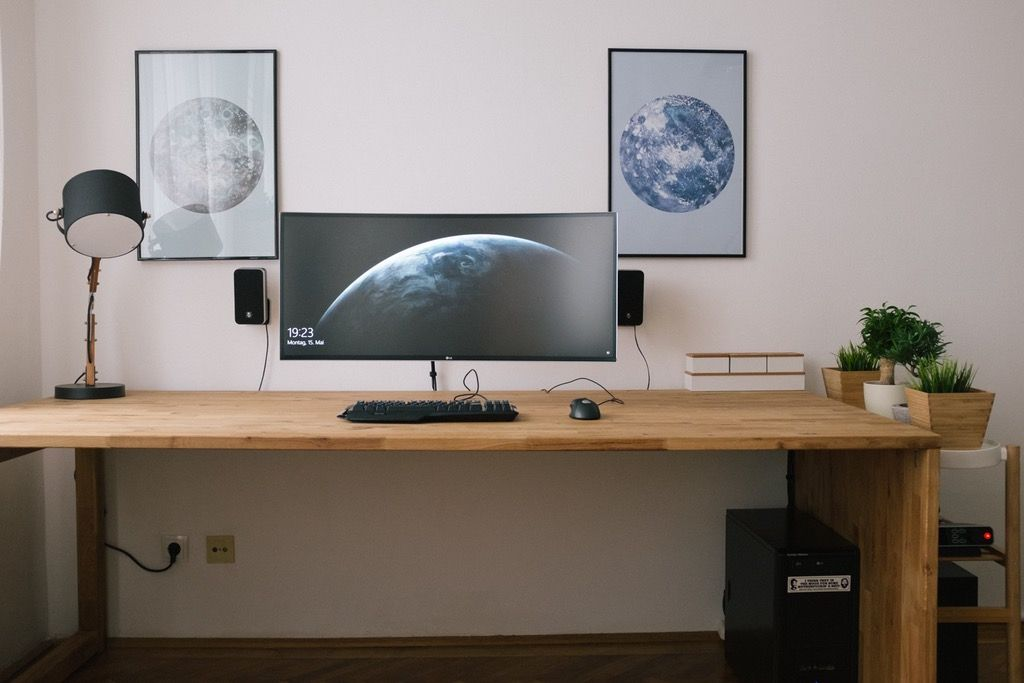keyboard: (331, 393, 526, 428)
monitor: (271, 204, 628, 370)
mouse: (558, 396, 616, 423)
